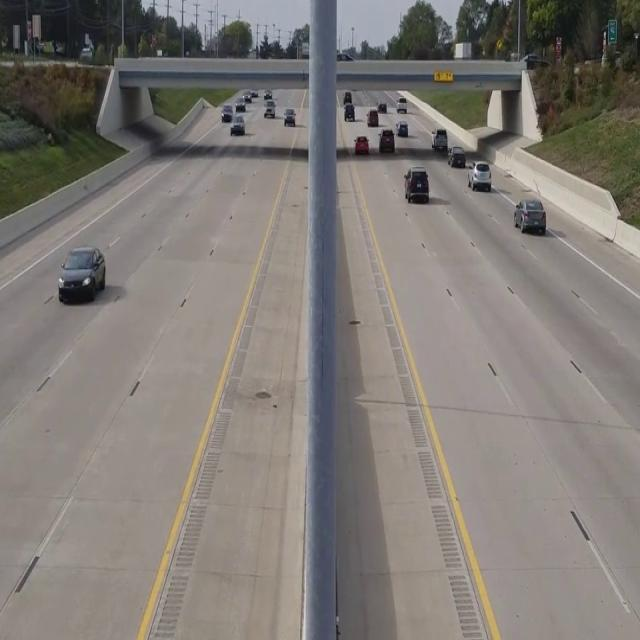car: (58, 245, 106, 302), (514, 197, 546, 233), (404, 167, 429, 203)
